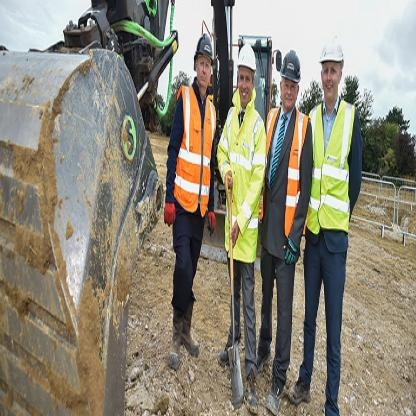person: (307, 8, 366, 415), (262, 14, 307, 415), (217, 8, 261, 415), (170, 26, 212, 371)
